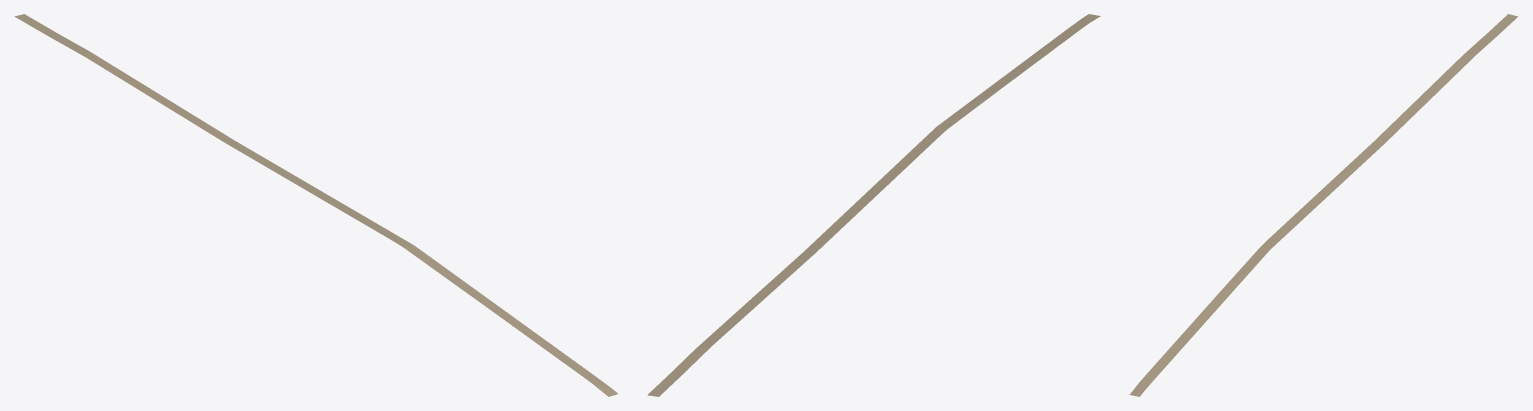
File: farm_13_4_track.glb
The picture shows the model from 3 angles, left to right: view 1: azimuth 30°, elevation 25°; view 2: azimuth 150°, elevation 25°; view 3: azimuth 330°, elevation 25°; orthographic projection. The views are drawn at different scales.
Parts seen in each view (by area): view 1: geometry_0; view 2: geometry_0; view 3: geometry_0.
Part boxes in pixels (x1,y1,x2,y2): geometry_0: (14, 14, 617, 396); geometry_0: (647, 14, 1100, 396); geometry_0: (1129, 14, 1518, 396).
Size of the model in its own units: 29.56 by 9.15 by 266.
